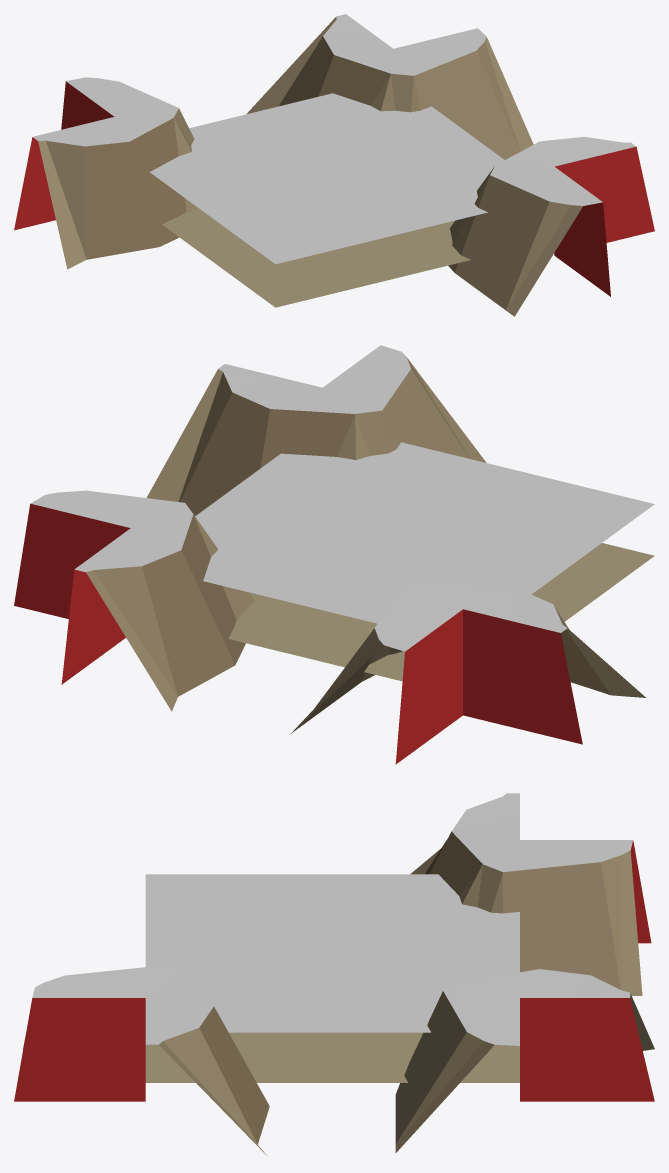
The model's file is Model_Horde_River_4W_3G_1WTR.fbx.
3 renders of one model, top to bottom at view 1: azimuth 30°, elevation 25°; view 2: azimuth 150°, elevation 25°; view 3: azimuth 270°, elevation 25°, orthographic. The views are drawn at different scales.
Visible parts, largest first — view 1: Model_Frost_Rivers3; view 2: Model_Frost_Rivers3; view 3: Model_Frost_Rivers3.
Boxes of the visible parts, x1,y1,x2,y2 form: Model_Frost_Rivers3: (14, 14, 654, 316); Model_Frost_Rivers3: (14, 345, 654, 764); Model_Frost_Rivers3: (14, 793, 654, 1156).
Size of the model in its own units: 344 by 61.13 by 342.
